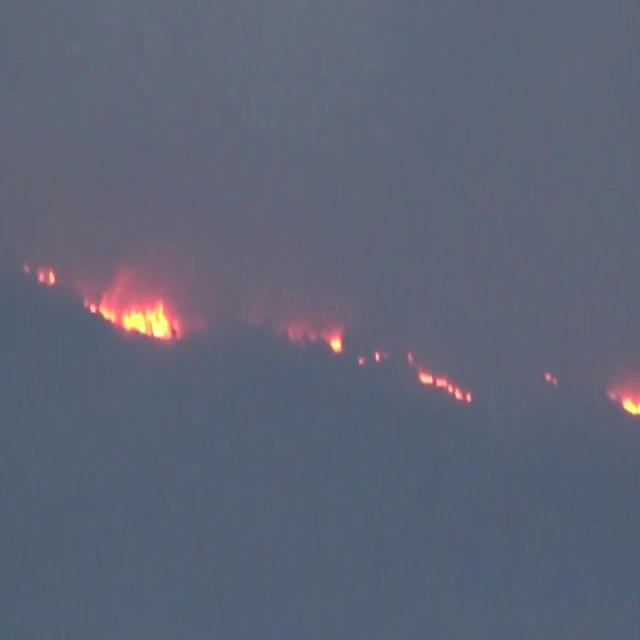Fire: (85, 298, 172, 340), (418, 368, 472, 407), (36, 266, 56, 284), (622, 396, 638, 414), (328, 333, 341, 351)
